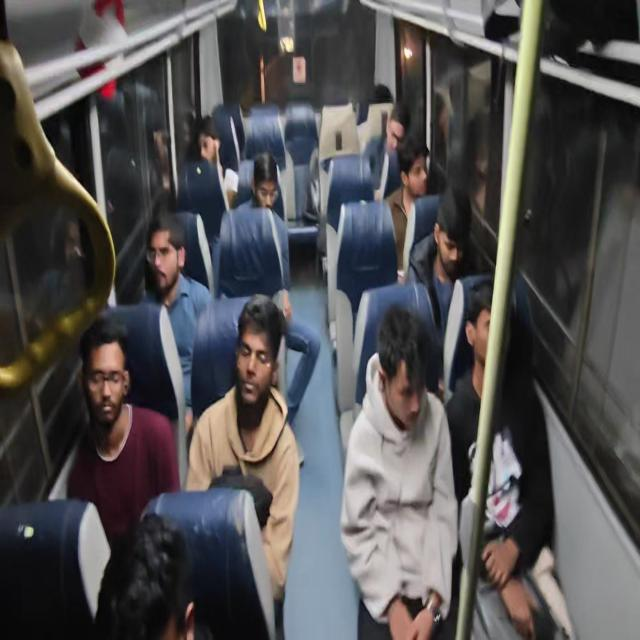person: (340, 304, 459, 638), (185, 293, 300, 636), (445, 282, 555, 638), (66, 316, 180, 548), (139, 210, 213, 421), (93, 511, 196, 639), (405, 183, 475, 343), (235, 151, 291, 291), (383, 132, 430, 282), (192, 114, 239, 210), (363, 101, 409, 199), (238, 150, 284, 219)
